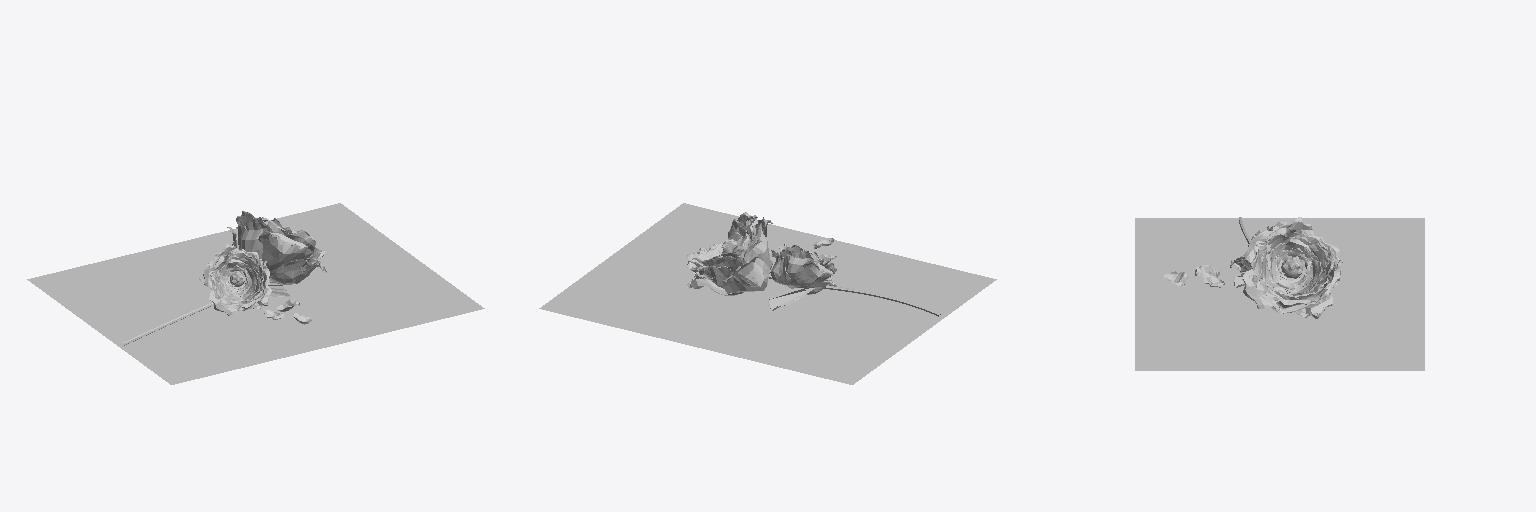
The model's file is Rose.obj.
The picture shows the model from 3 angles: view 1: azimuth 30°, elevation 25°; view 2: azimuth 150°, elevation 25°; view 3: azimuth 270°, elevation 25°; orthographic projection.
Parts seen in each view (by area): view 1: Plane.001, Grid.001, Grid.000; view 2: Plane.001, Grid.001, Grid.000, Circle.000_Circle.001; view 3: Plane.001, Grid.001.
Part boxes in pixels (left/top/right/bottom): Plane.001: left=27, top=203, right=484, bottom=384; Grid.001: left=227, top=211, right=328, bottom=324; Grid.000: left=203, top=244, right=271, bottom=315; Plane.001: left=539, top=203, right=996, bottom=384; Grid.001: left=687, top=212, right=836, bottom=295; Grid.000: left=770, top=244, right=836, bottom=294; Circle.000_Circle.001: left=767, top=287, right=814, bottom=311; Plane.001: left=1135, top=218, right=1424, bottom=370; Grid.001: left=1164, top=217, right=1343, bottom=318.
Size of the model in its own units: 24.07 by 5.63 by 19.22.